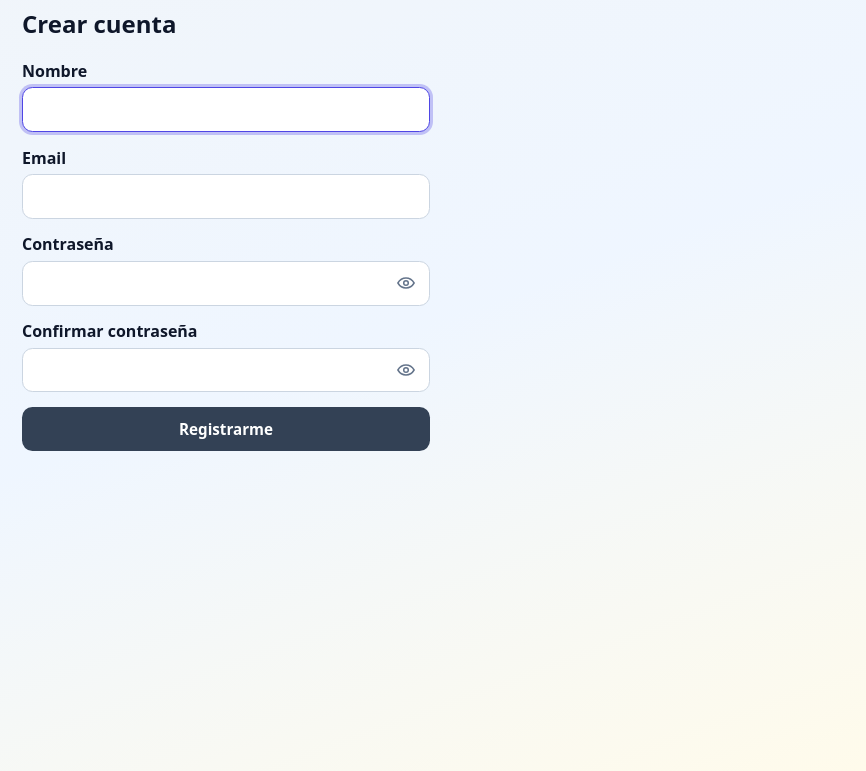
Test: formularios de autenticación › valida la longitud mínima de la contraseña de registro
This screenshot has width=866, height=771.
Type "Ada Lovelace" into the field labelled "Nombre" at (226, 110), box [22, 87, 430, 132]
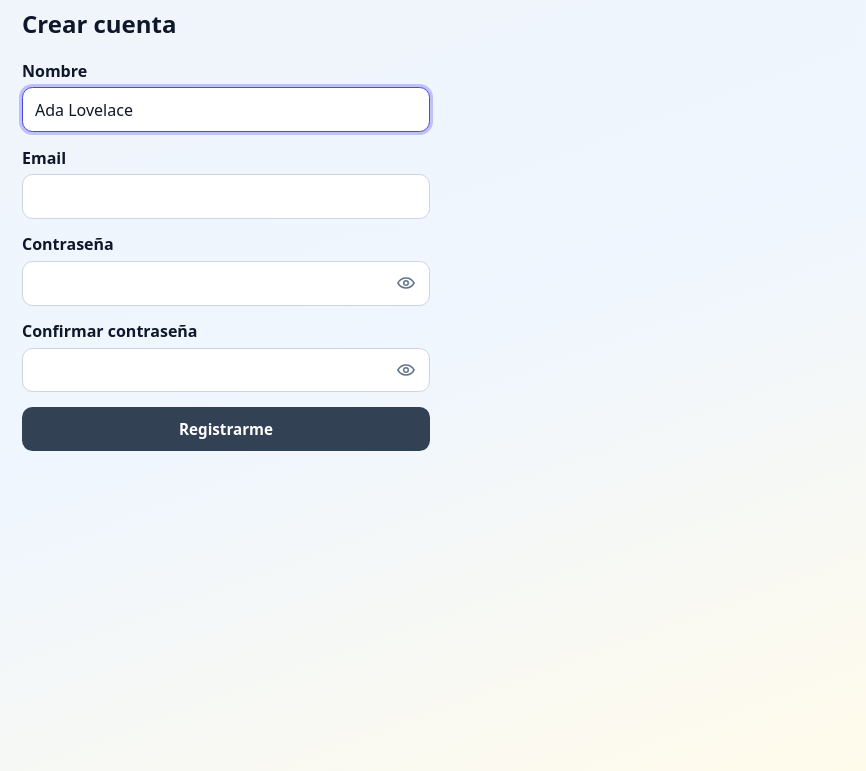
Type "ada@example.com" into the field labelled "Email" at (226, 197), box [22, 174, 430, 219]
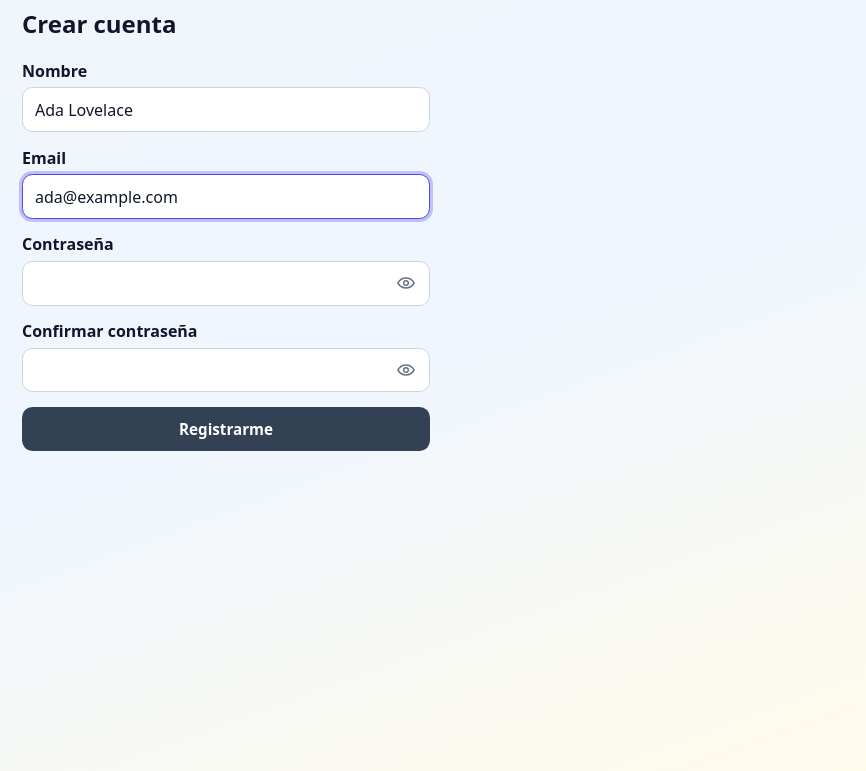
Type "12345" into the password field labelled "Contraseña" at (226, 283), box [22, 261, 430, 306]
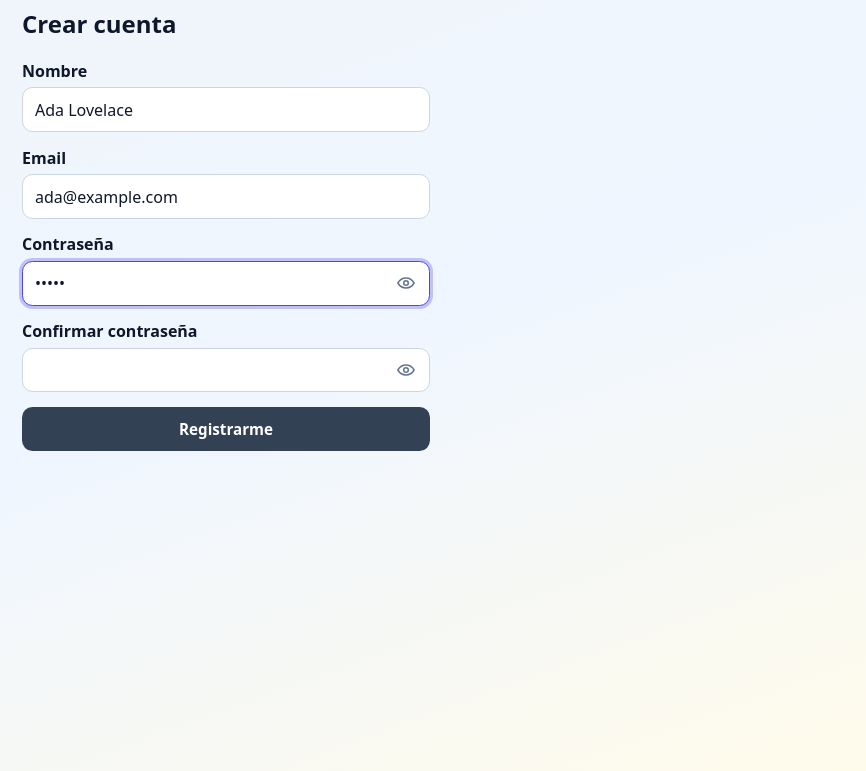
Type "12345" into the password field labelled "Confirmar contraseña" at (226, 370), box [22, 348, 430, 392]
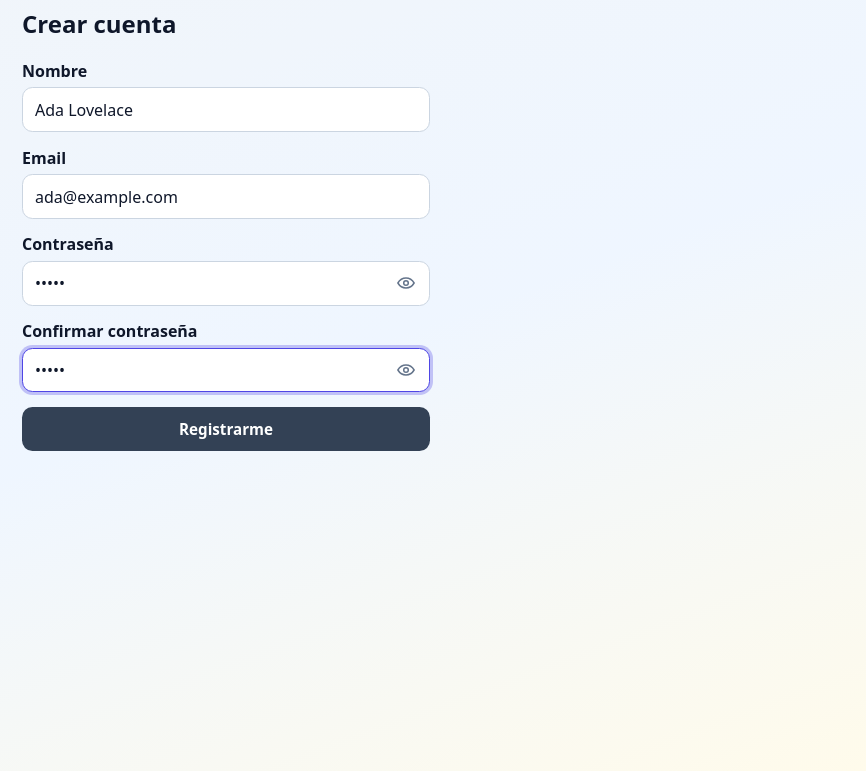
Click the button "Registrarme" at (226, 429), box [22, 407, 430, 451]
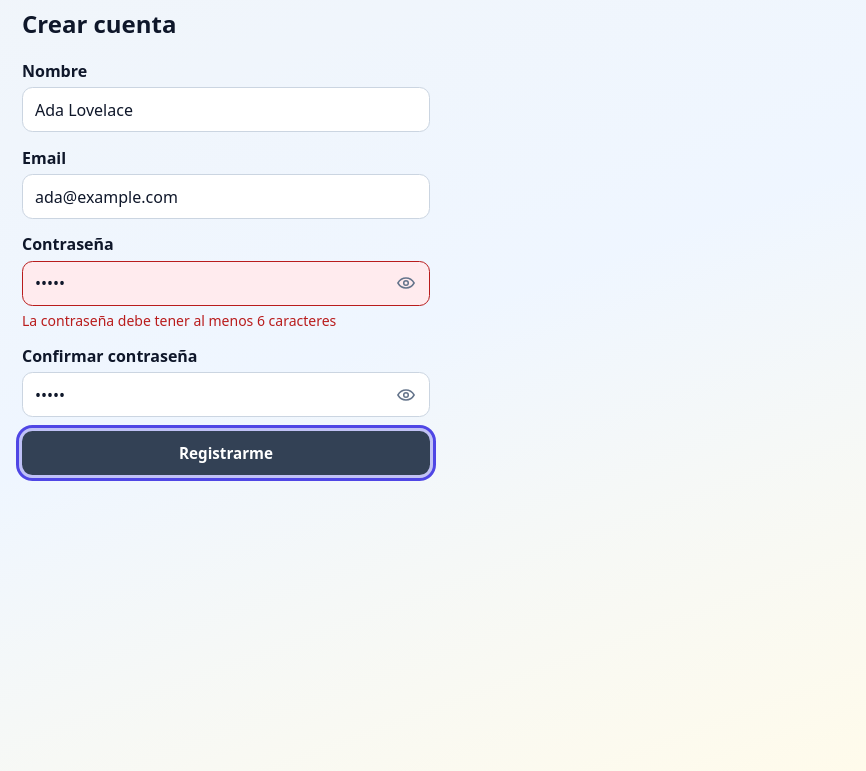
Expected: the text "La contraseña debe tener al menos 6 caracteres" is shown, [22, 311, 336, 330]
